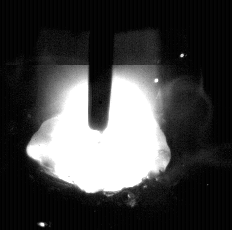arame: (90, 0, 111, 131)
poca: (28, 0, 169, 230)
